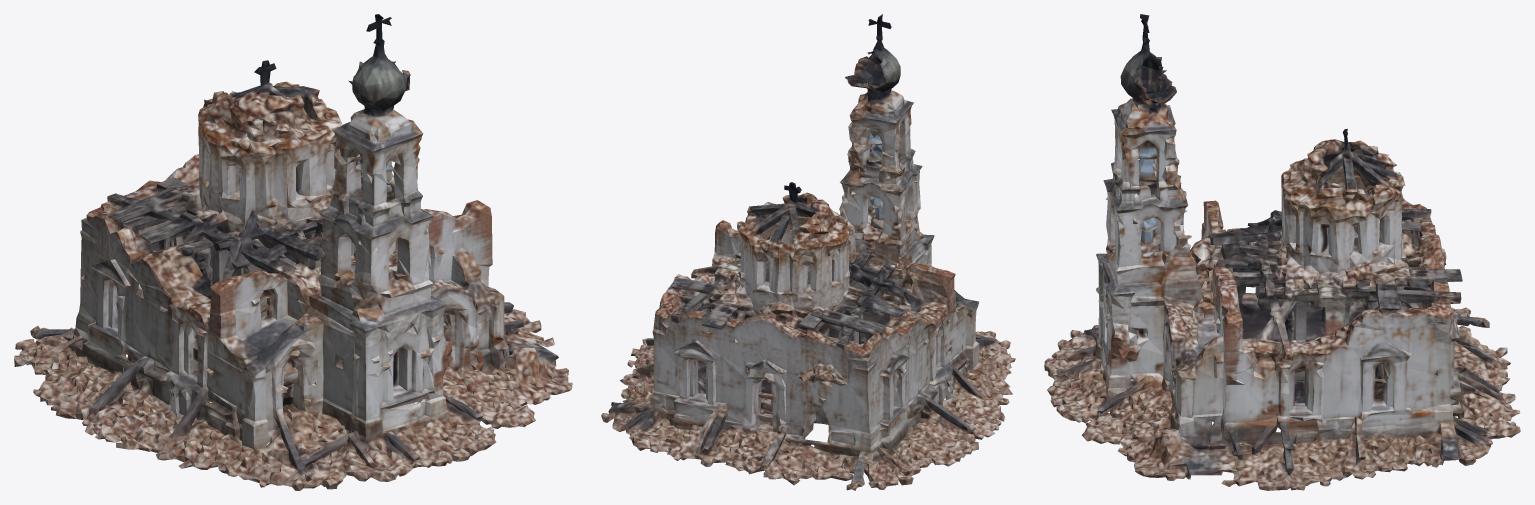
File: k_church_ruin.obj
The picture shows the model from 3 angles, left to right: view 1: azimuth 30°, elevation 25°; view 2: azimuth 150°, elevation 25°; view 3: azimuth 270°, elevation 25°; orthographic projection. The views are drawn at different scales.
Visible parts, largest first — view 1: k_church_ruin; view 2: k_church_ruin; view 3: k_church_ruin.
Boxes of the visible parts, box(x1,y1,x2,y2) form: k_church_ruin: box(14, 14, 572, 490); k_church_ruin: box(601, 14, 1015, 490); k_church_ruin: box(1044, 14, 1520, 490).
Bounding box in the file's own units: 15.71 × 14 × 15.86.
1 material, 1 textured.
